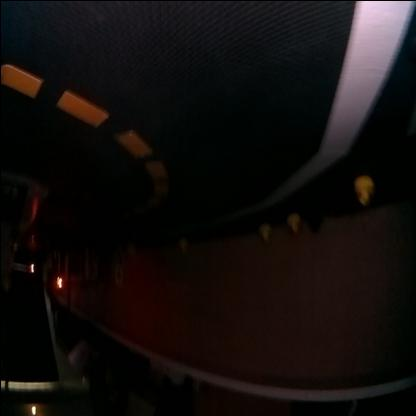Duckie: (352, 176, 372, 204), (286, 213, 298, 232), (258, 226, 270, 237), (126, 246, 134, 256), (178, 242, 186, 250)
